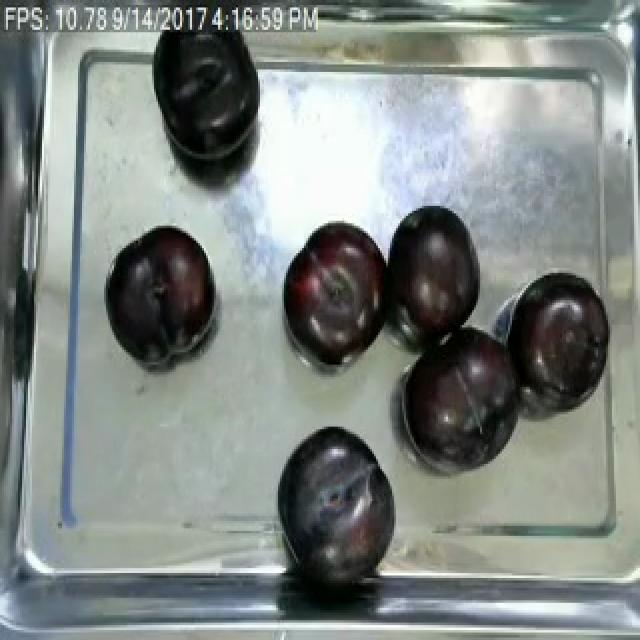Fruit: (268, 419, 400, 576), (398, 320, 526, 461), (146, 24, 268, 168), (276, 216, 390, 370), (102, 221, 220, 362), (504, 273, 614, 402), (384, 201, 482, 340)
